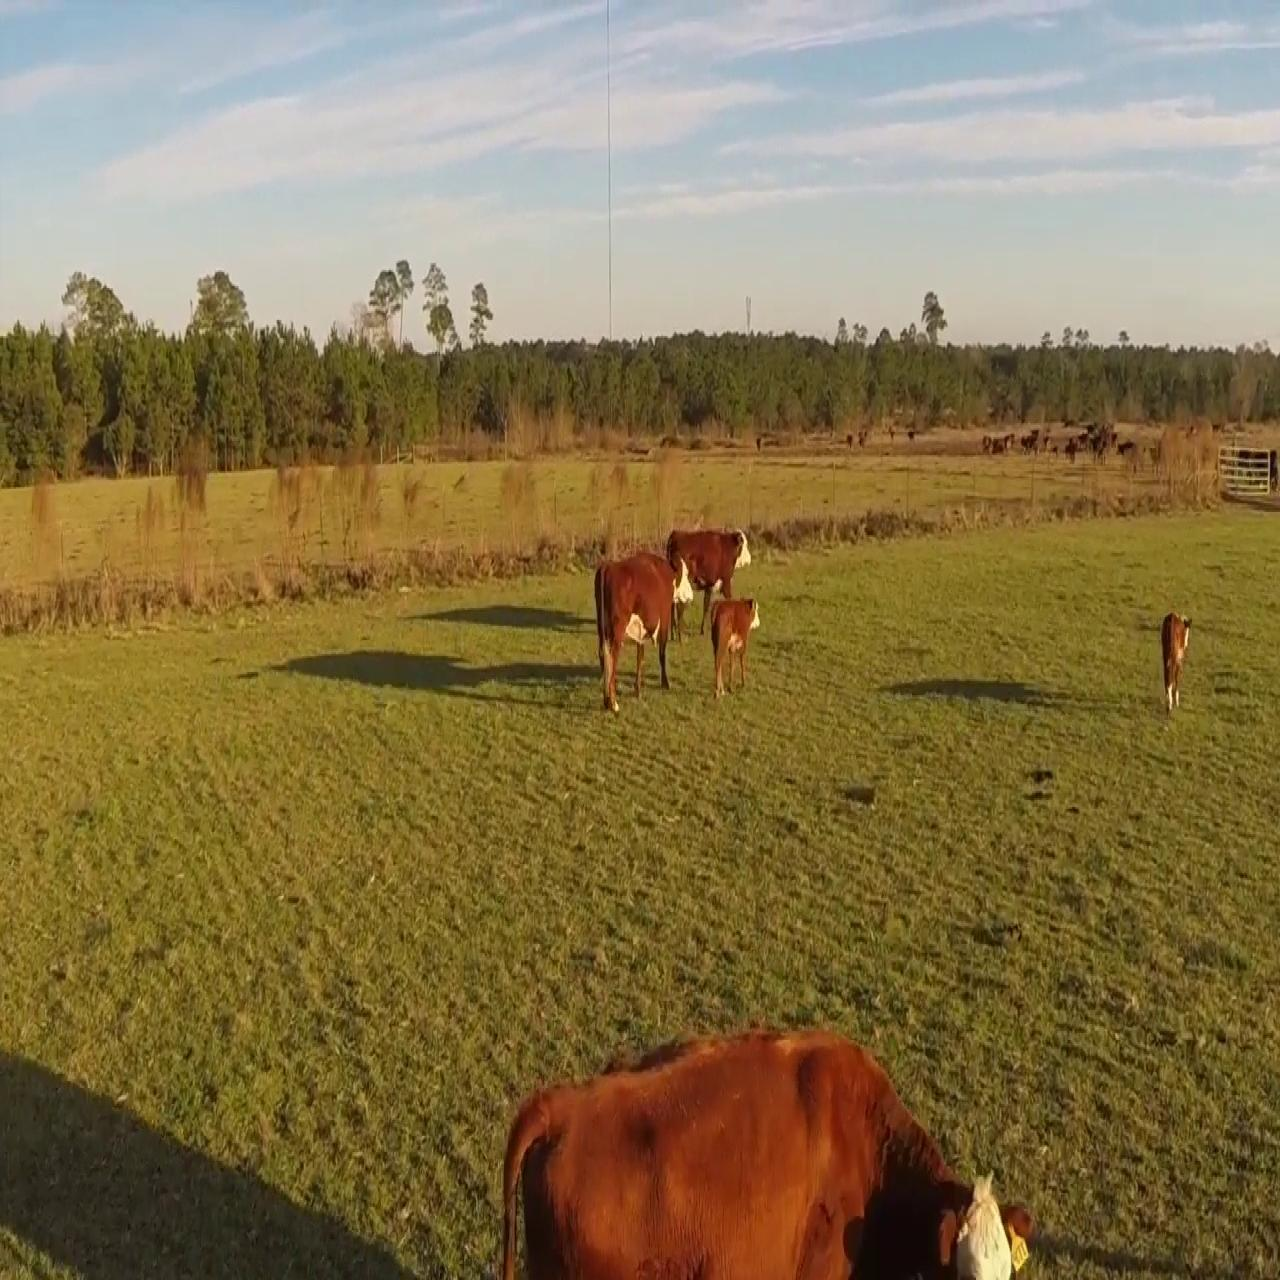cow: (467, 1001, 1056, 1278), (587, 545, 692, 710), (662, 522, 754, 633), (704, 591, 764, 706), (1153, 584, 1197, 733)
